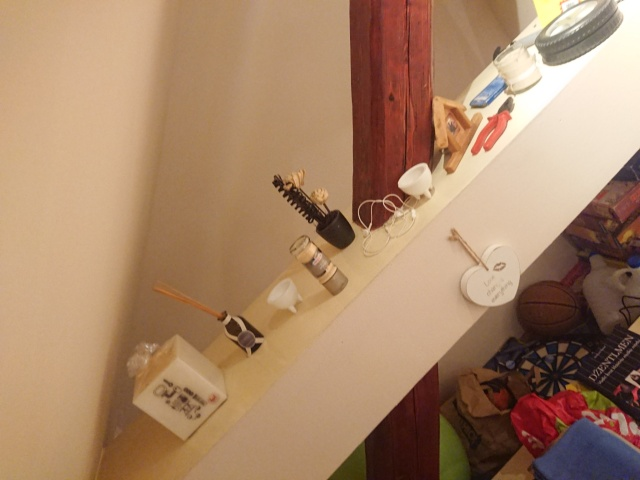Kotanyi Garlic Granules 70g: (288, 233, 350, 298)
